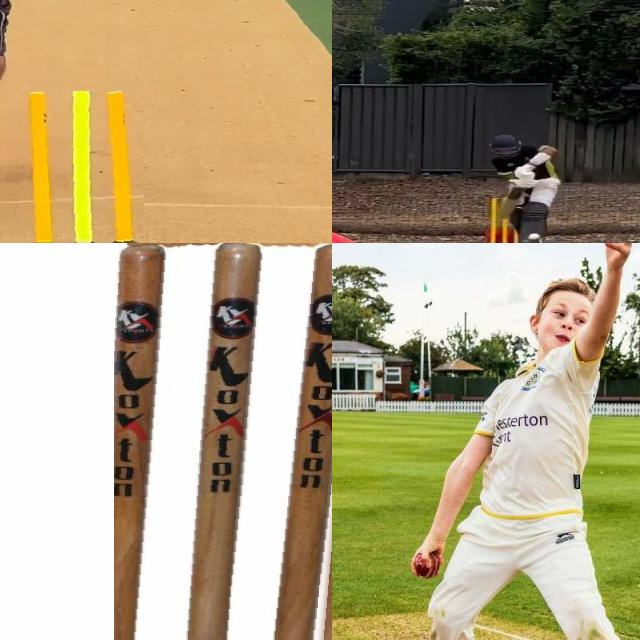Cricket ball: (409, 551, 444, 585), (526, 231, 542, 241)
Stumps: (114, 243, 332, 640), (5, 90, 144, 243)
